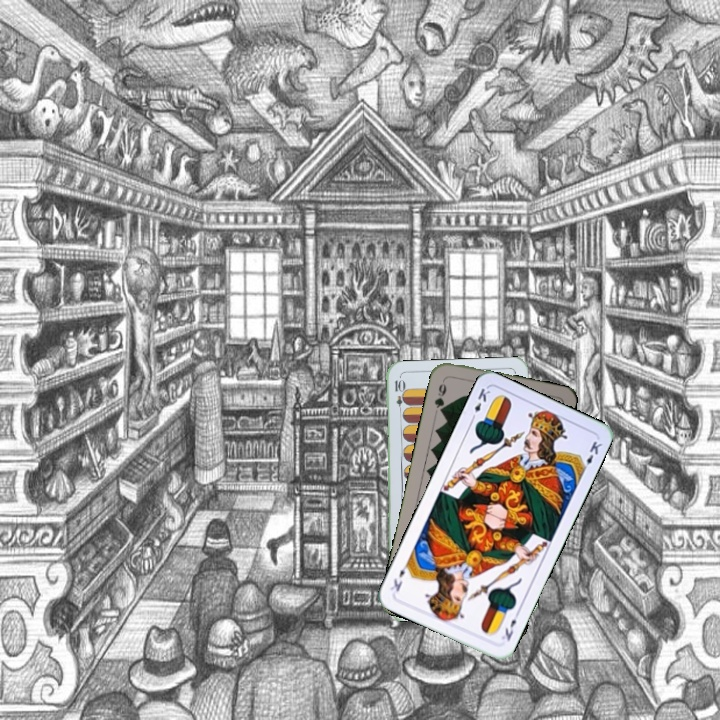E10: (391, 376, 406, 416)
EK: (467, 384, 492, 423), (497, 607, 522, 644)
G9: (430, 375, 449, 416)
